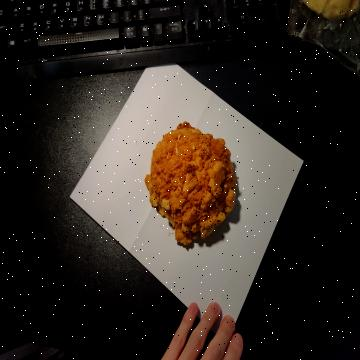soboru_bread: (144, 122, 236, 251)
